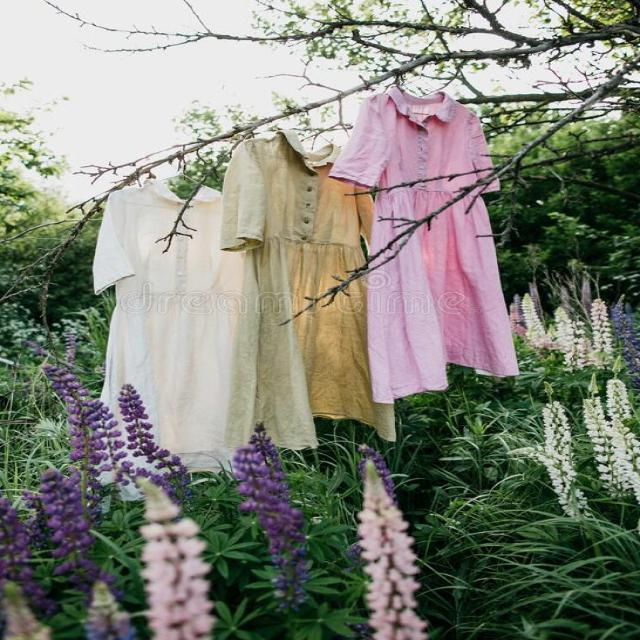clothes: (69, 96, 528, 445)
